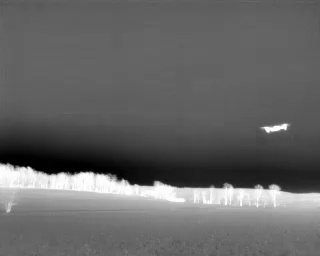DRONE: (256, 118, 294, 139)
